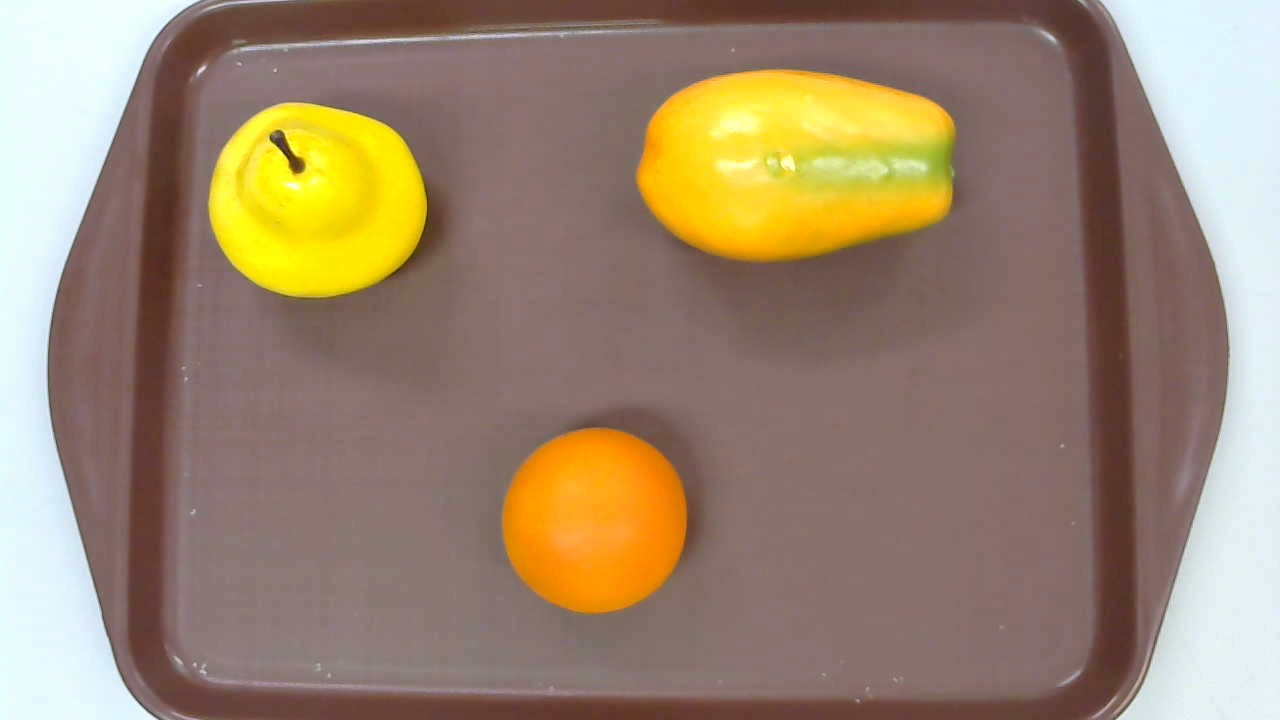bun: (501, 428, 688, 612)
papya: (636, 67, 960, 266)
yellow pear: (206, 101, 427, 297)
